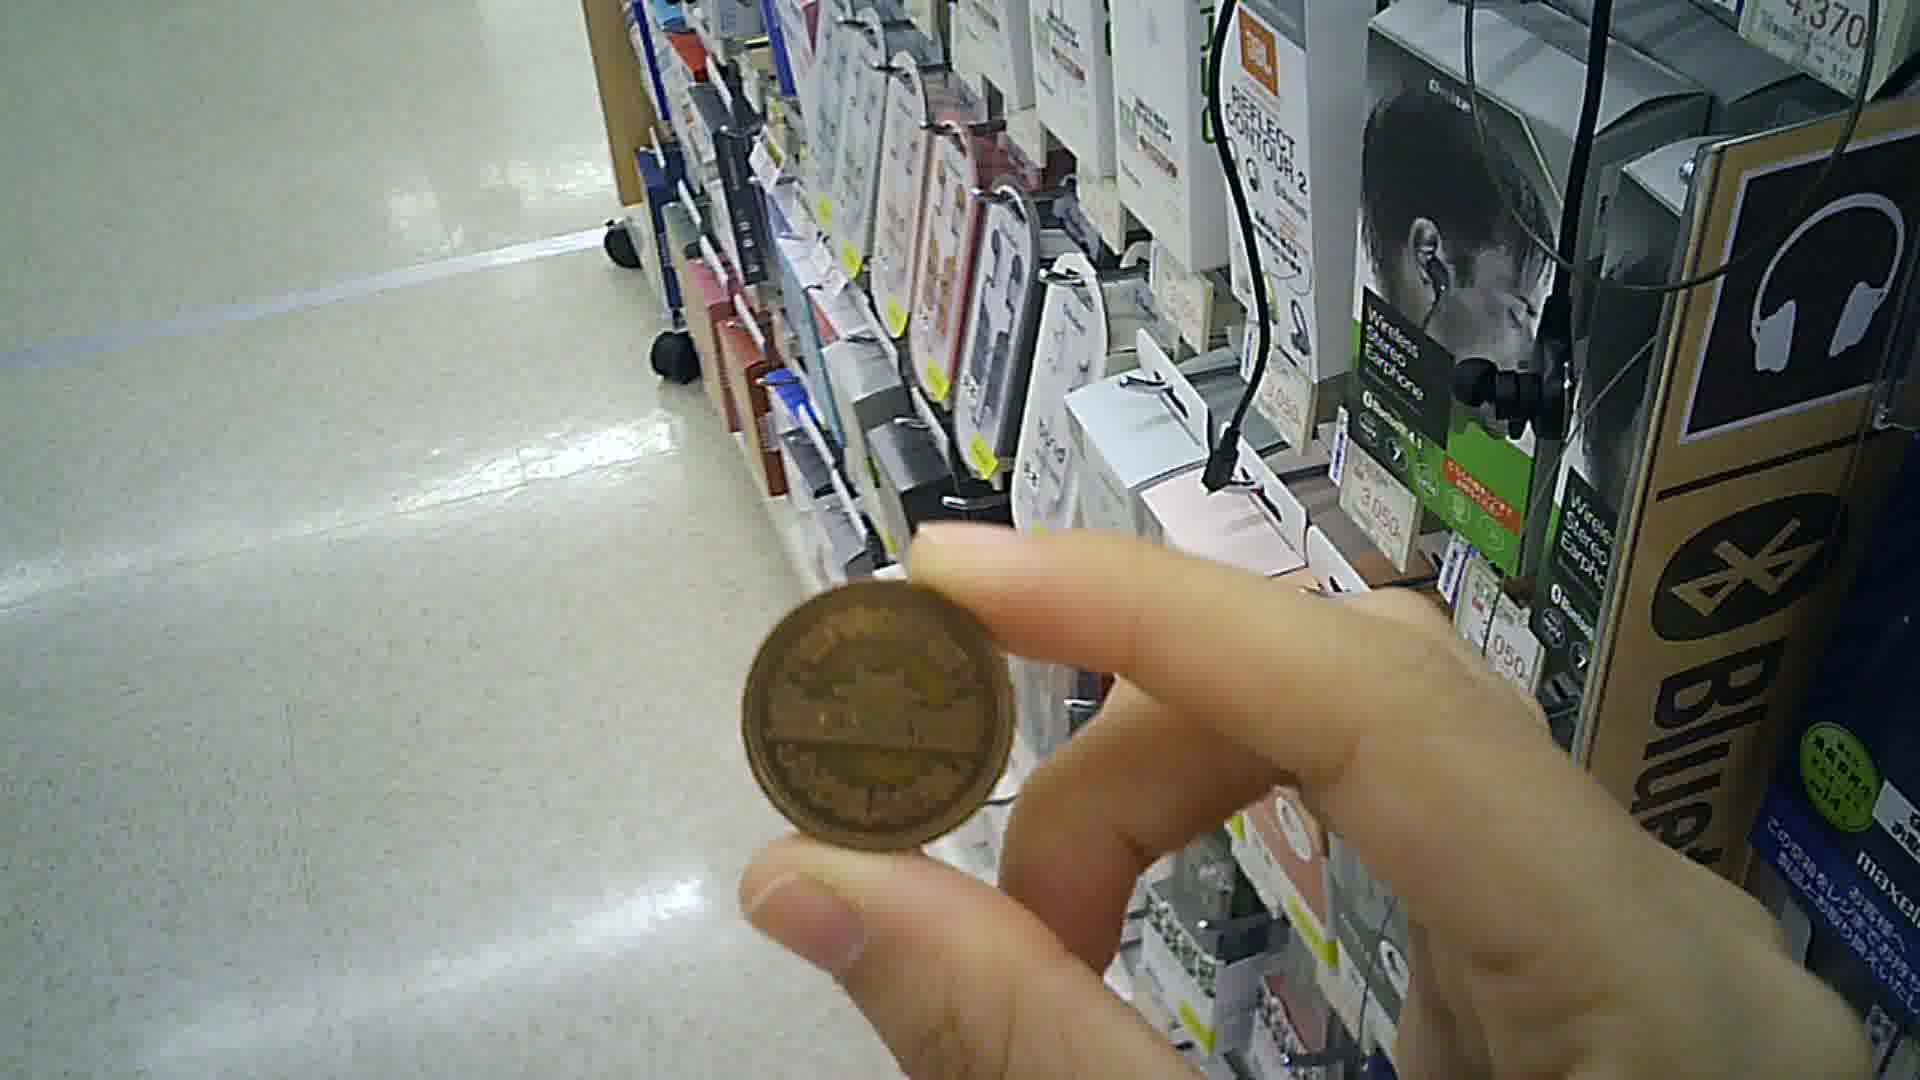10 Yen: (748, 575, 1021, 865)
